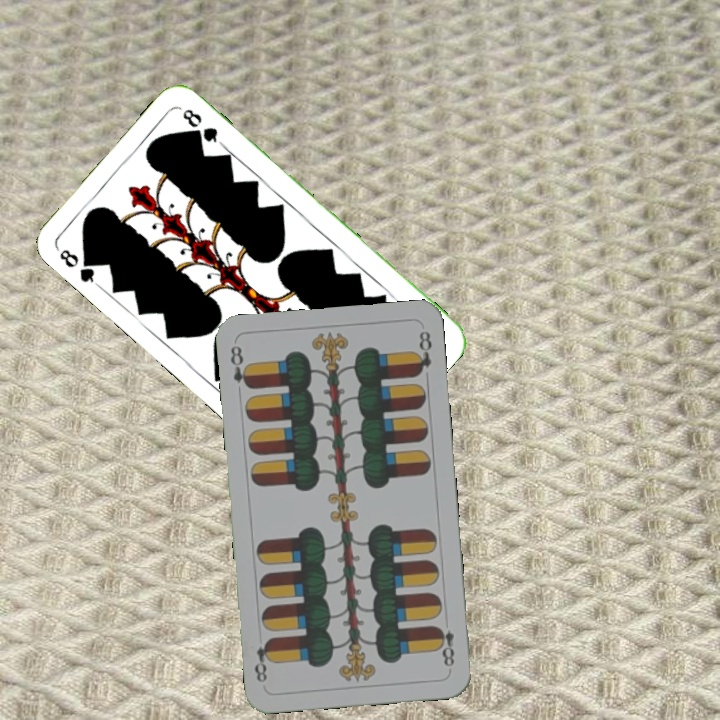E8: (226, 341, 254, 392), (433, 622, 457, 673)
G8: (53, 245, 102, 289)
